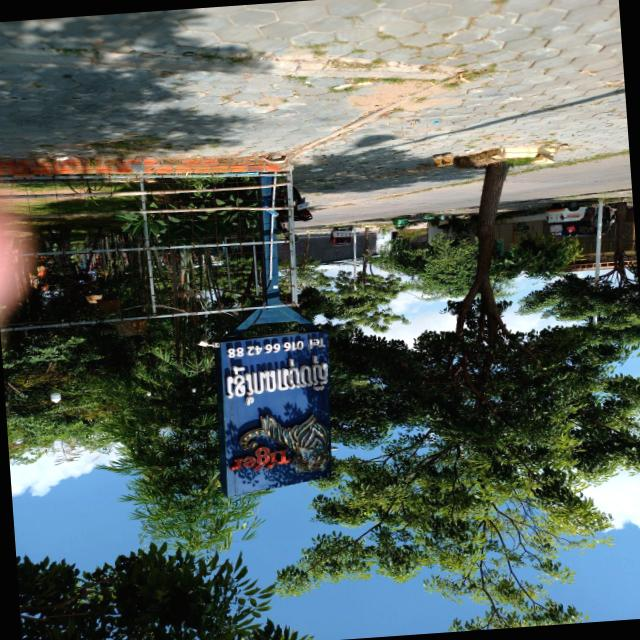312: (223, 336, 308, 361)
Yolov11kh: (223, 352, 330, 409)
